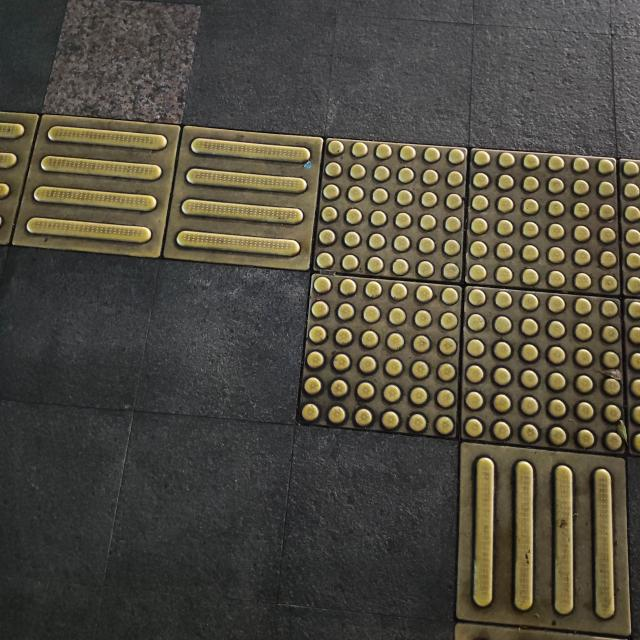kiri: (44, 107, 640, 568)
